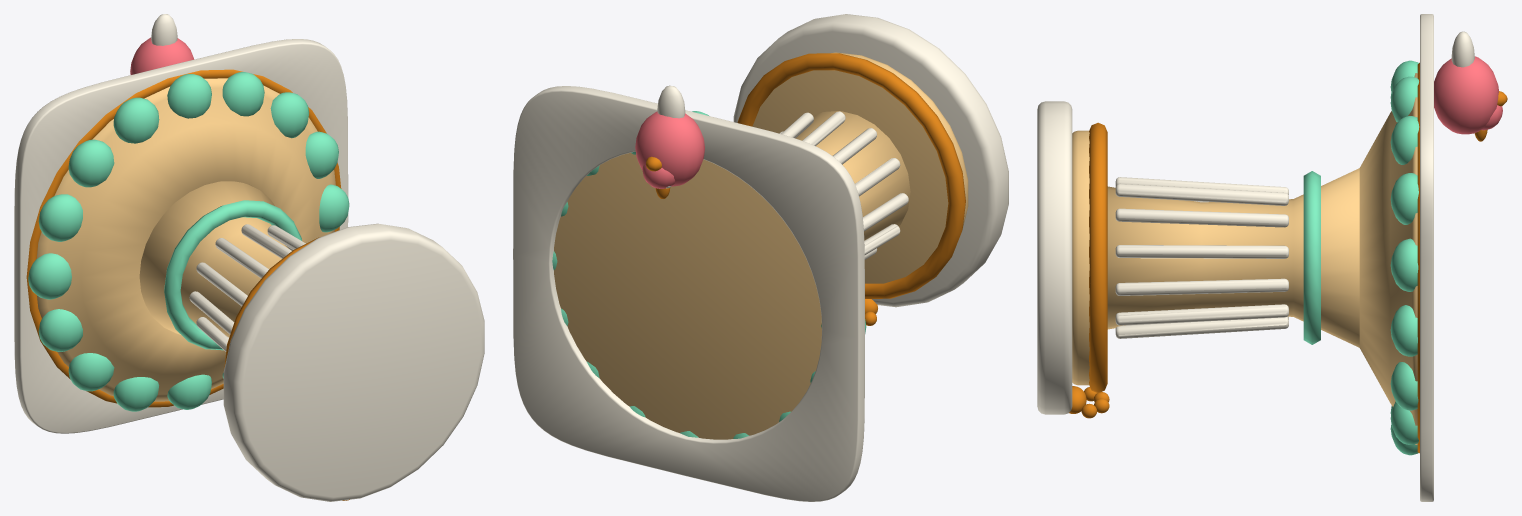
The model's file is GardenBirdBath_Premium.fbx.
3 renders of one model, left to right at view 1: azimuth 30°, elevation 25°; view 2: azimuth 150°, elevation 25°; view 3: azimuth 270°, elevation 25°, orthographic. The views are drawn at different scales.
Parts seen in each view (by area): view 1: GardenBirdBath; view 2: GardenBirdBath; view 3: GardenBirdBath.
Part boxes in pixels (bbox=[...]): GardenBirdBath: bbox=[14, 14, 484, 501]; GardenBirdBath: bbox=[513, 14, 1008, 501]; GardenBirdBath: bbox=[1037, 14, 1507, 501].
Bounding box in the file's own units: 0.698 × 0.7731 × 0.804.
